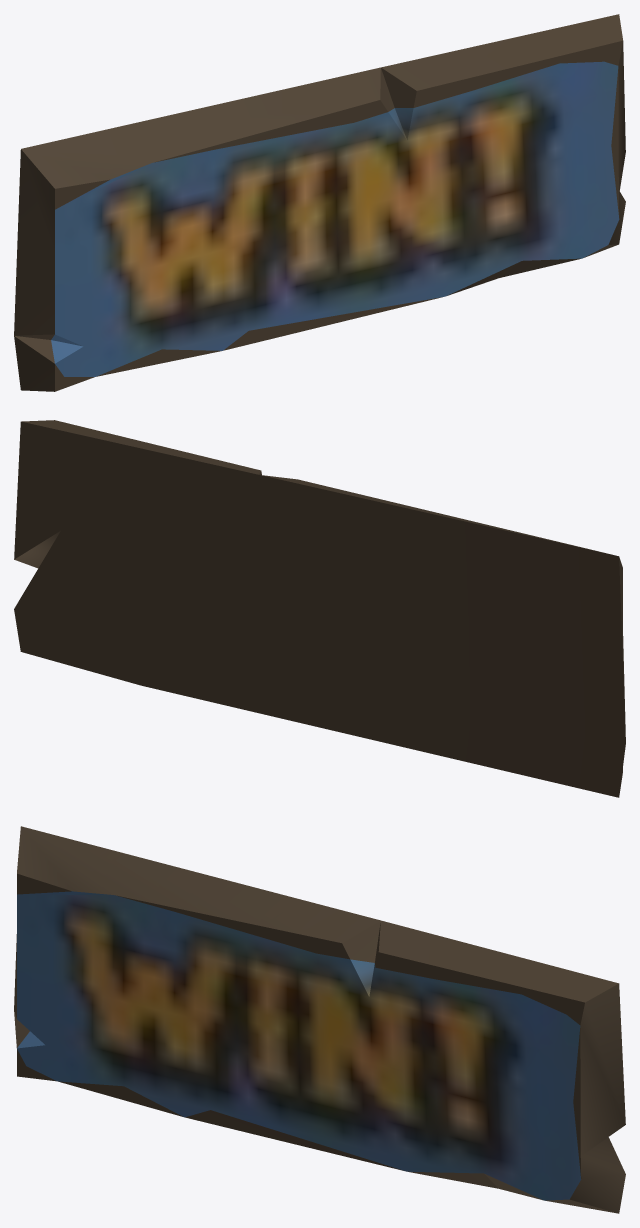
The model's file is sign-win.glb.
3 views of the same model, one above another, from view 1: azimuth 30°, elevation 25°; view 2: azimuth 150°, elevation 25°; view 3: azimuth 330°, elevation 25° (orthographic).
Visible parts, largest first — view 1: SM_Prop_Sign_Win_01; view 2: SM_Prop_Sign_Win_01; view 3: SM_Prop_Sign_Win_01.
Part boxes in pixels (bbox=[...]): SM_Prop_Sign_Win_01: bbox=[14, 14, 625, 391]; SM_Prop_Sign_Win_01: bbox=[14, 420, 625, 797]; SM_Prop_Sign_Win_01: bbox=[14, 826, 625, 1213].
Bounding box in the file's own units: 115 × 44.31 × 6.34.
Materials: 1 (1 with a texture image).
